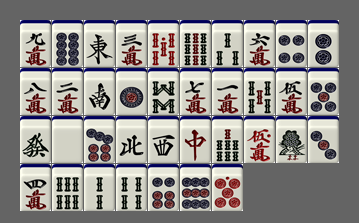0m: (244, 116, 275, 163)
0p: (212, 164, 243, 211)
0s: (148, 20, 179, 67)
1m: (212, 68, 243, 115)
1p: (116, 68, 147, 115)
1s: (276, 116, 307, 163)
1z: (84, 20, 115, 67)
2m: (52, 68, 83, 115)
2p: (308, 20, 339, 67)
2s: (84, 164, 115, 211)
2z: (84, 68, 115, 115)
3m: (116, 20, 147, 67)
3p: (308, 116, 339, 163)
3s: (212, 20, 243, 67)
3z: (148, 116, 179, 163)
4m: (20, 164, 51, 211)
4p: (276, 20, 307, 67)
4s: (116, 164, 147, 211)
4z: (116, 116, 147, 163)
5m: (276, 68, 307, 115)
5p: (308, 68, 339, 115)
5s: (244, 68, 275, 115)
5z: (52, 116, 83, 163)
6m: (244, 20, 275, 67)
6p: (148, 164, 179, 211)
6s: (52, 164, 83, 211)
6z: (20, 116, 51, 163)
7m: (180, 68, 211, 115)
7p: (84, 116, 115, 163)
7s: (212, 116, 243, 163)
7z: (180, 116, 211, 163)
8m: (20, 68, 51, 115)
8p: (52, 20, 83, 67)
8s: (148, 68, 179, 115)
9m: (20, 20, 51, 67)
9p: (180, 164, 211, 211)
9s: (180, 20, 211, 67)
